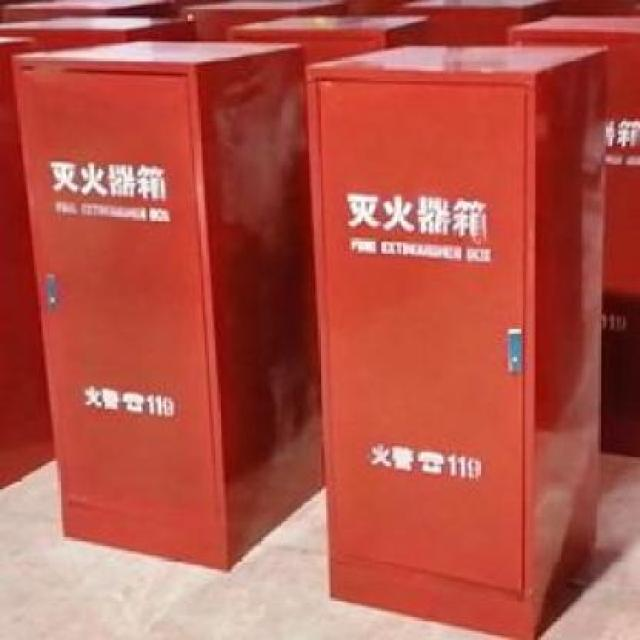firehydrant: (298, 37, 618, 640), (6, 34, 332, 580), (501, 9, 640, 303)
